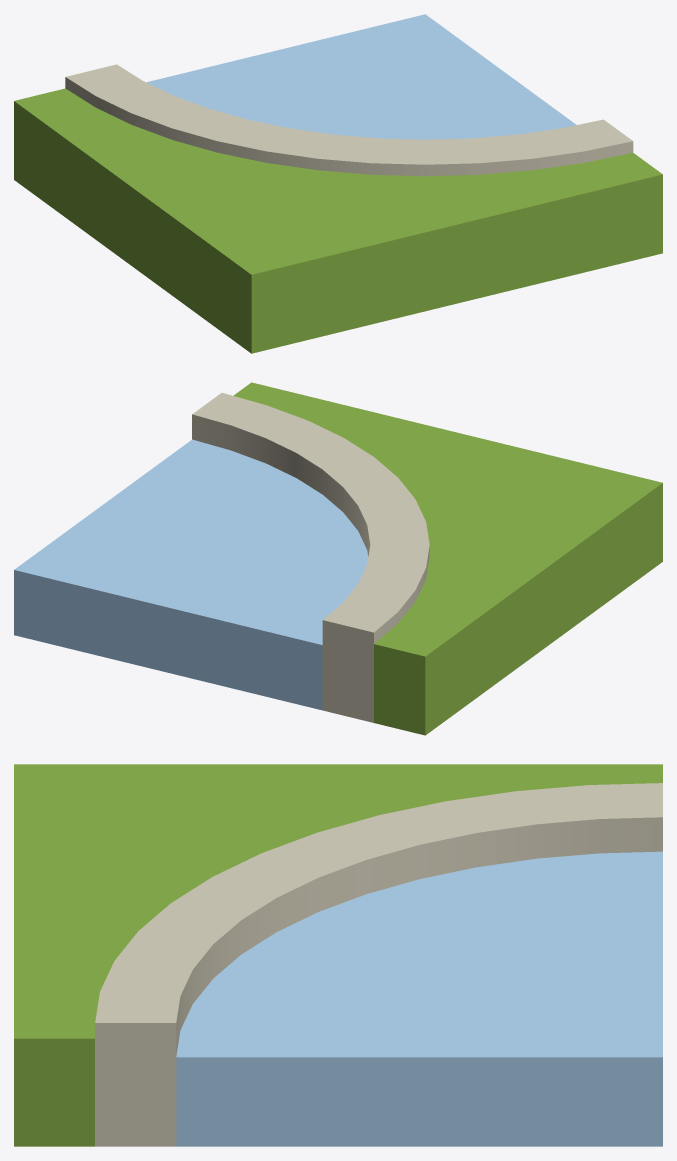
Rendered from roadTile_243.fbx.
3 renders of one model, top to bottom at view 1: azimuth 30°, elevation 25°; view 2: azimuth 150°, elevation 25°; view 3: azimuth 270°, elevation 25°, orthographic. The views are drawn at different scales.
Parts seen in each view (by area): view 1: Mesh1_Group1 Model; view 2: Mesh1_Group1 Model; view 3: Mesh1_Group1 Model.
Boxes of the visible parts, bbox=[...] form: Mesh1_Group1 Model: bbox=[14, 14, 662, 353]; Mesh1_Group1 Model: bbox=[14, 382, 662, 735]; Mesh1_Group1 Model: bbox=[14, 764, 662, 1146].
Bounding box in the file's own units: 3 × 0.63 × 3.
